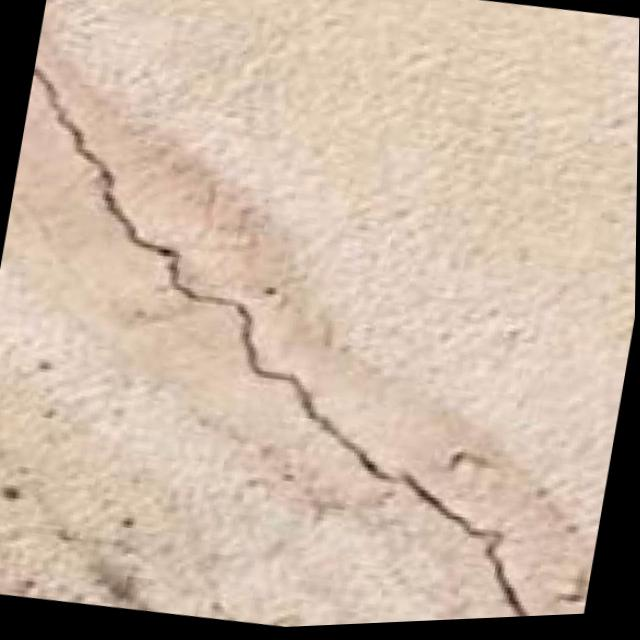Crack: (0, 34, 639, 640)
